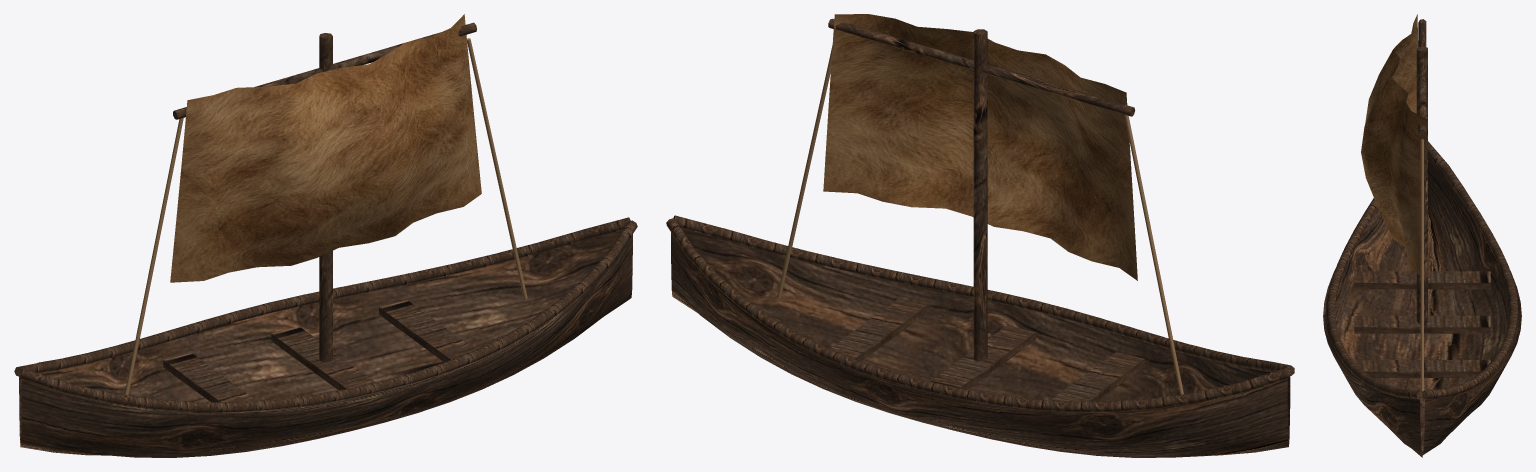
File: bronzeBoat.glb
The picture shows the model from 3 angles, left to right: view 1: azimuth 30°, elevation 25°; view 2: azimuth 150°, elevation 25°; view 3: azimuth 270°, elevation 25°; orthographic projection. The views are drawn at different scales.
Visible parts, largest first — view 1: part_0, part_1, part_2; view 2: part_0, part_1, part_2; view 3: part_0, part_1, part_2.
Boxes of the visible parts, x1,y1,x2,y2 form: part_0: (14,22,637,457); part_1: (170,14,481,282); part_2: (124,38,527,395); part_0: (666,18,1294,457); part_1: (823,14,1137,280); part_2: (777,45,1183,394); part_0: (1323,19,1521,457); part_1: (1361,14,1427,276); part_2: (1420,21,1423,391).
Size of the model in its own units: 3.03 by 1.81 by 1.
Materials: 3 (2 with a texture image).
